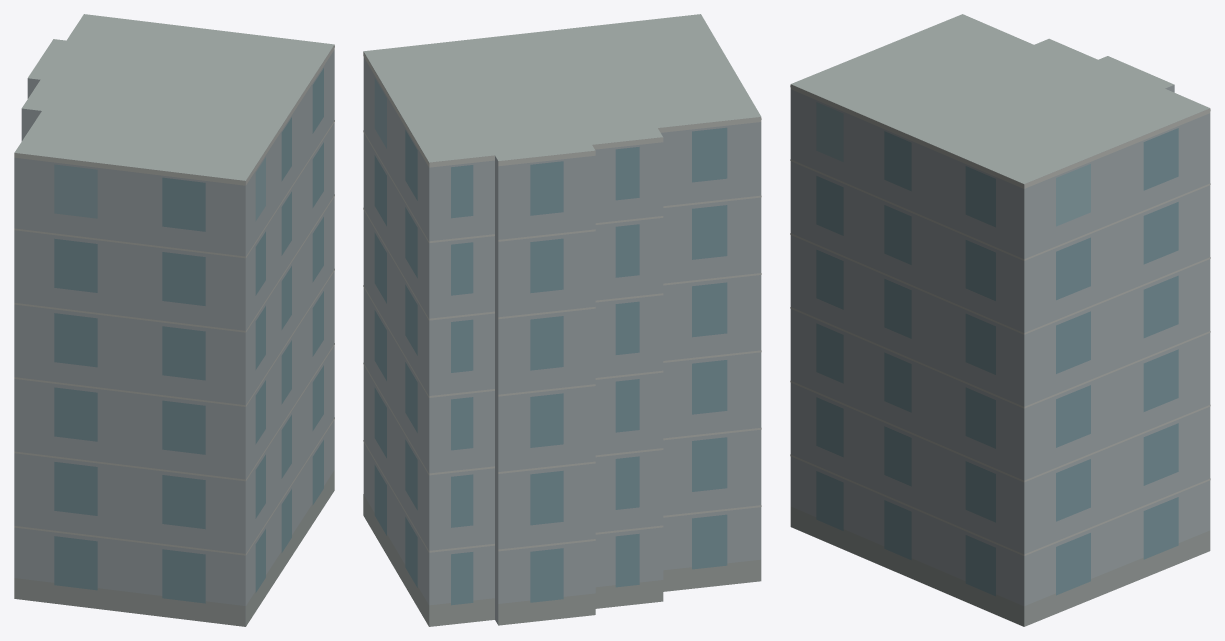
File: survey-upis-32968378.glb
3 views of the same model, side by side, from view 1: azimuth 30°, elevation 25°; view 2: azimuth 150°, elevation 25°; view 3: azimuth 270°, elevation 25° (orthographic). The views are drawn at different scales.
Parts seen in each view (by area): view 1: survey-upis-32968378.tmp; view 2: survey-upis-32968378.tmp; view 3: survey-upis-32968378.tmp.
Boxes of the visible parts, x1,y1,x2,y2 form: survey-upis-32968378.tmp: (14, 14, 334, 626); survey-upis-32968378.tmp: (363, 14, 761, 626); survey-upis-32968378.tmp: (790, 14, 1210, 626).
Size of the model in its own units: 18.31 by 22.2 by 19.09.
